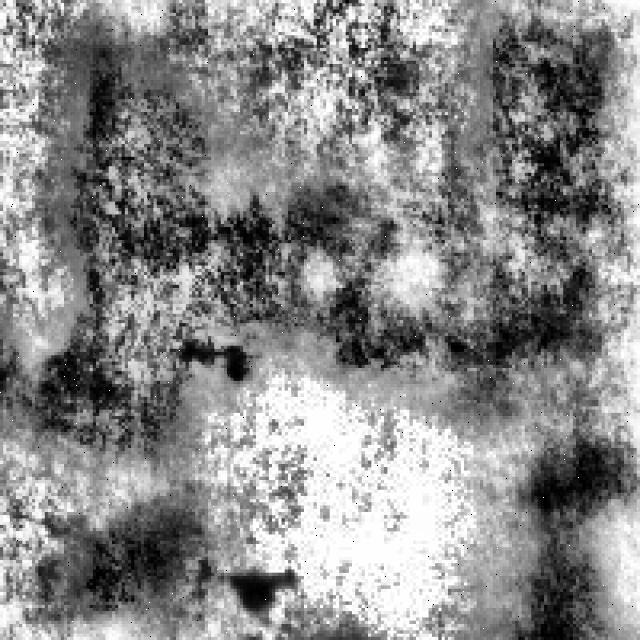Scratches: (39, 32, 388, 454), (419, 7, 637, 410), (480, 419, 640, 637), (51, 486, 208, 621)
